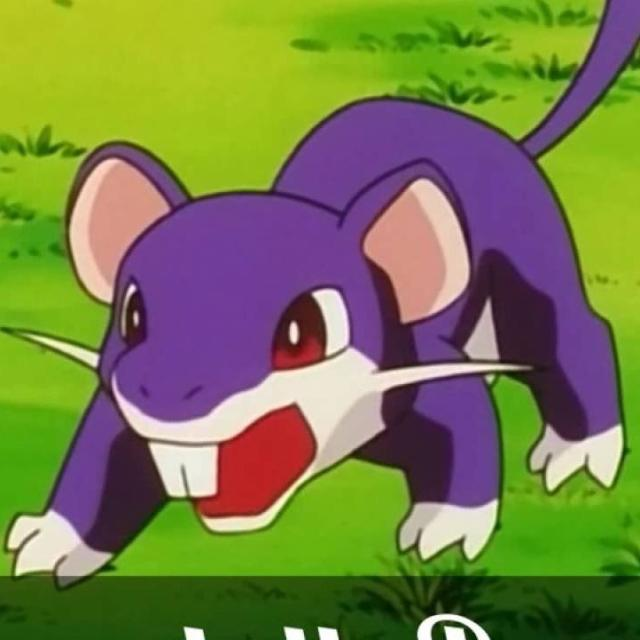Rattata: (8, 91, 609, 579)
